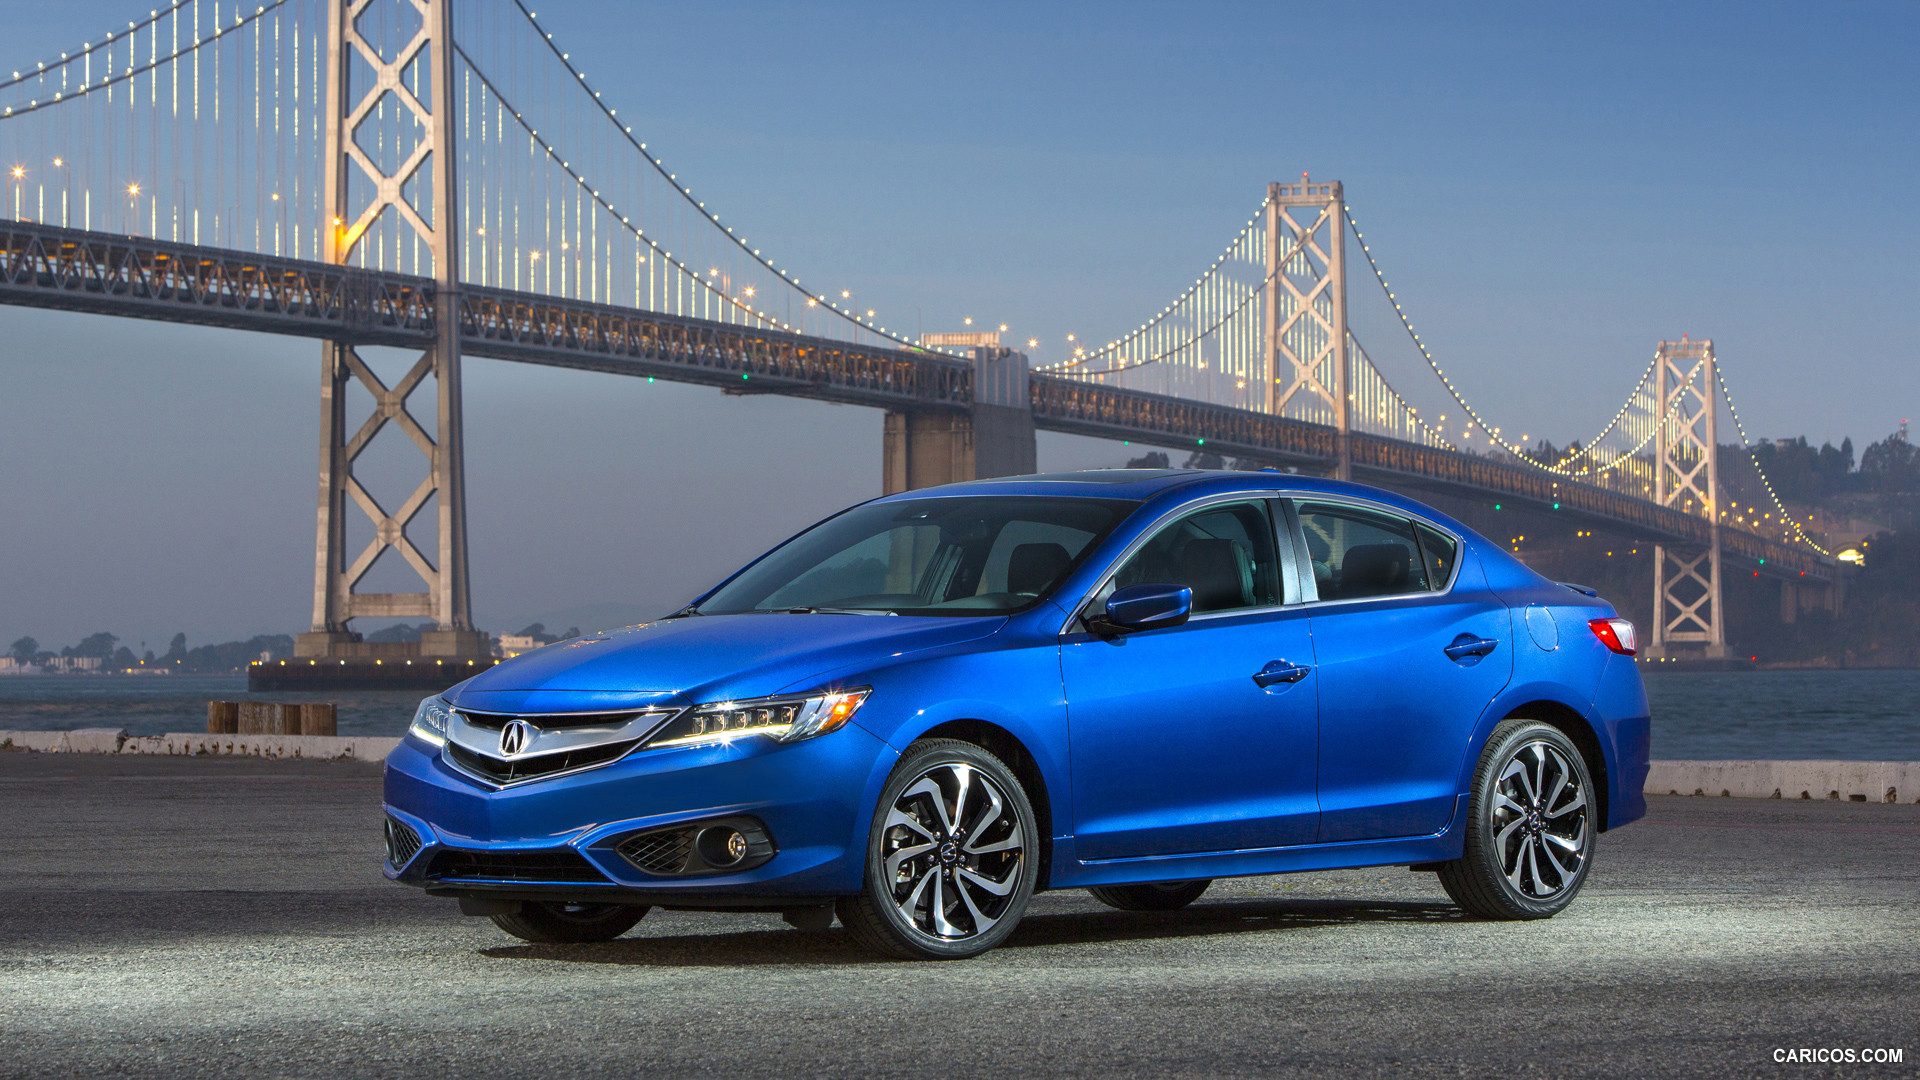Fog Lamp & Scope: (615, 811, 778, 880)
Front: (378, 621, 1007, 895)
Front Bumper: (375, 779, 870, 891)
Grill: (444, 707, 655, 793)
Headlight: (638, 683, 873, 757)
